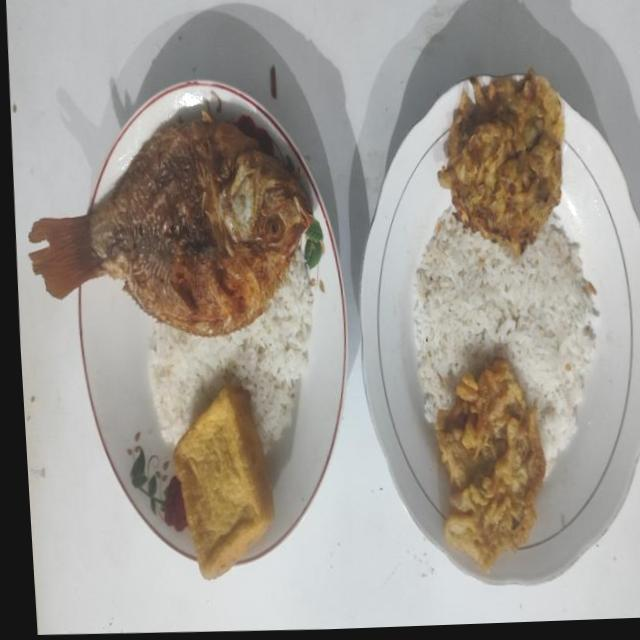ikan_mujair: (29, 112, 312, 336)
nasi_putih: (413, 212, 598, 474), (148, 249, 314, 452)
tahu_goreng: (173, 386, 274, 578)
